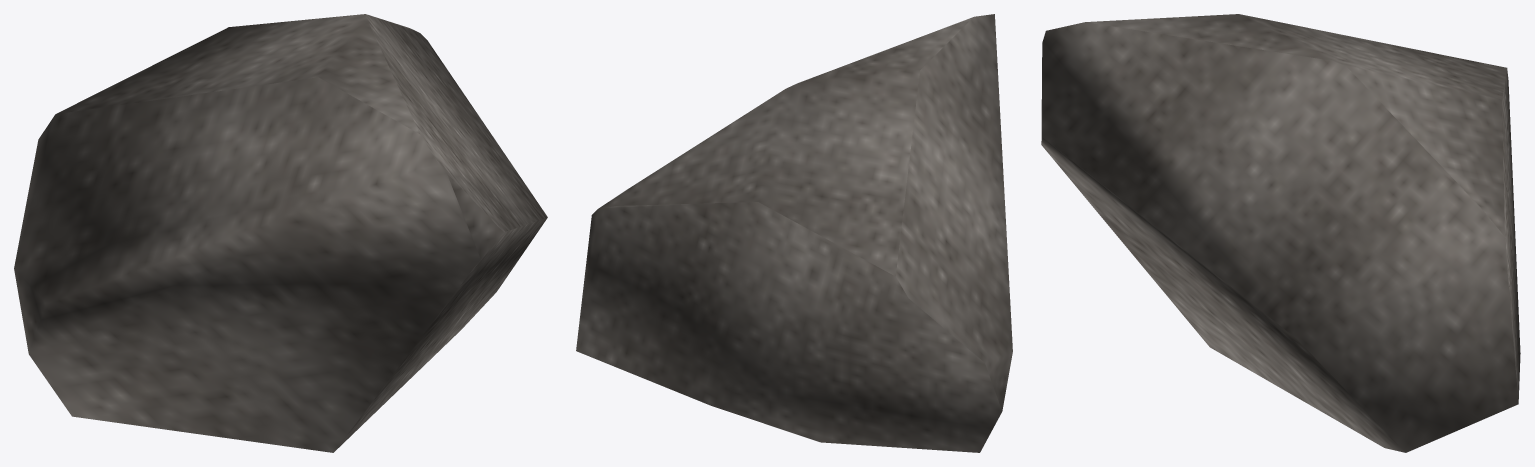
File: cliff_corner_1.glb
The picture shows the model from 3 angles, left to right: view 1: azimuth 30°, elevation 25°; view 2: azimuth 150°, elevation 25°; view 3: azimuth 270°, elevation 25°; orthographic projection. The views are drawn at different scales.
Visible parts, largest first — view 1: cliff_corner_1; view 2: cliff_corner_1; view 3: cliff_corner_1.
Part boxes in pixels (x1,y1,x2,y2): cliff_corner_1: [14, 14, 547, 452]; cliff_corner_1: [576, 14, 1012, 452]; cliff_corner_1: [1041, 14, 1520, 452].
Size of the model in its own units: 6.79 by 5.1 by 6.61.
1 material, 1 textured.
